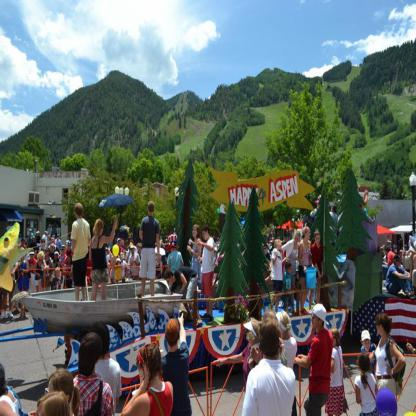face: (312, 314, 321, 329), (376, 322, 384, 335), (247, 326, 254, 340), (364, 340, 371, 351), (166, 278, 173, 287), (100, 225, 105, 236), (202, 231, 207, 241), (193, 228, 198, 237), (295, 236, 300, 245), (307, 231, 312, 240), (316, 236, 321, 245), (138, 246, 142, 254), (40, 259, 44, 265), (127, 244, 131, 250), (279, 242, 282, 250), (397, 260, 401, 266), (47, 249, 50, 256), (68, 257, 71, 264), (69, 245, 72, 252), (55, 255, 59, 260), (43, 242, 46, 248), (52, 247, 55, 253), (132, 249, 135, 255), (264, 247, 267, 253), (288, 267, 291, 273), (31, 255, 34, 260), (63, 249, 66, 254), (118, 262, 121, 267), (125, 256, 128, 261), (215, 251, 217, 257), (106, 249, 108, 254), (119, 241, 121, 246), (386, 250, 388, 255), (23, 241, 25, 245), (167, 246, 169, 249), (167, 241, 168, 243)
